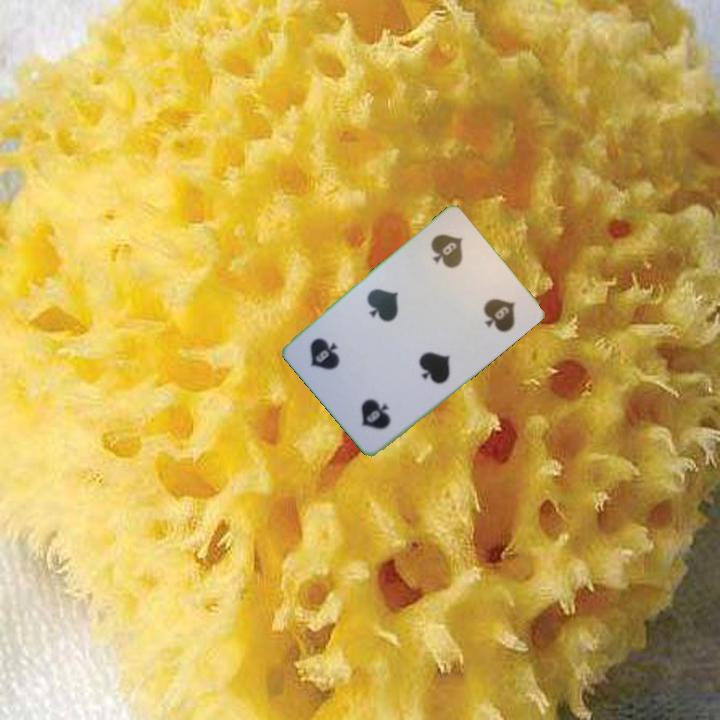s_6.png: (331, 361, 416, 447), (409, 216, 494, 302)
